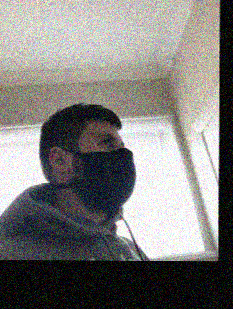with_mask: (75, 129, 136, 211)
